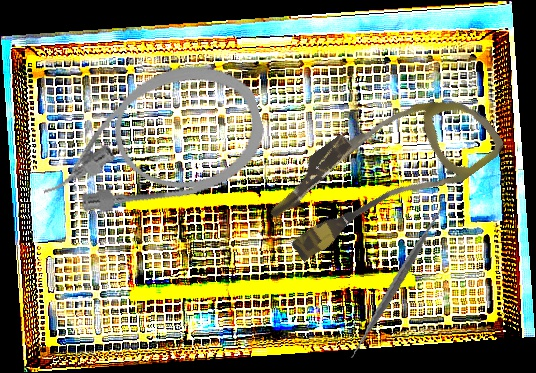Cannula: (255, 59, 509, 285), (20, 48, 277, 236)
Spatula Surgical: (318, 205, 475, 360)
